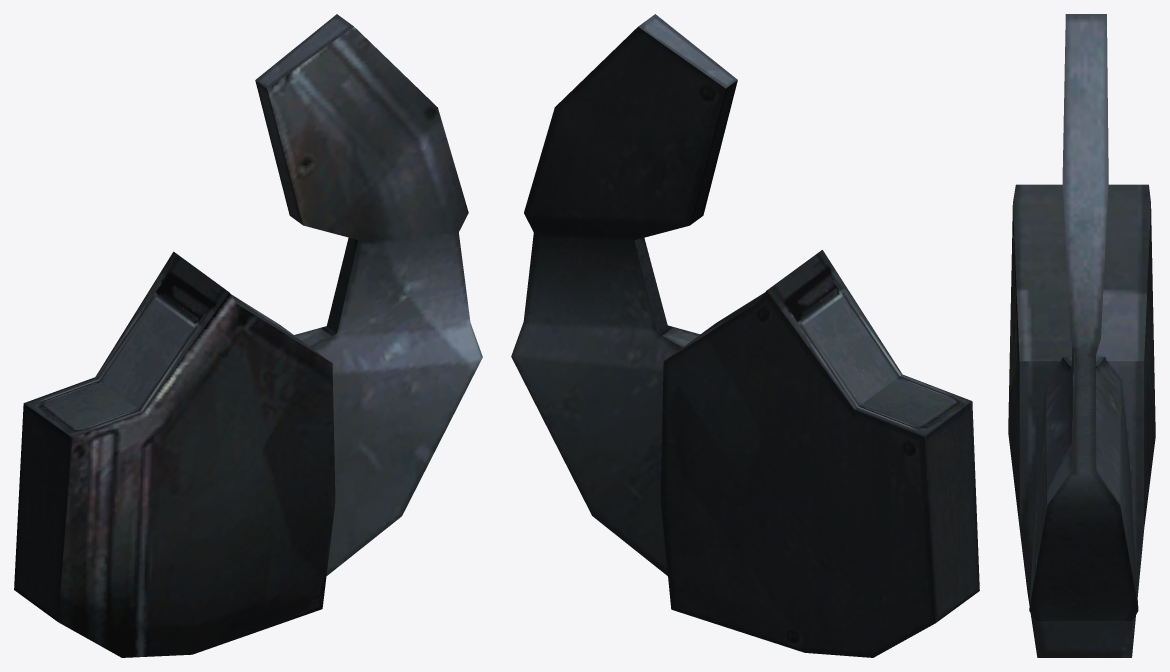
Rendered from w_AR2Magazine.fbx.
The picture shows the model from 3 angles, left to right: view 1: azimuth 30°, elevation 25°; view 2: azimuth 150°, elevation 25°; view 3: azimuth 270°, elevation 25°; orthographic projection. The views are drawn at different scales.
Visible parts, largest first — view 1: w_irifle_magazine; view 2: w_irifle_magazine; view 3: w_irifle_magazine.
Boxes of the visible parts, x1,y1,x2,y2 form: w_irifle_magazine: (14, 14, 482, 657); w_irifle_magazine: (511, 14, 979, 657); w_irifle_magazine: (1008, 14, 1155, 657).
Bounding box in the file's own units: 1090 × 1384 × 272.
